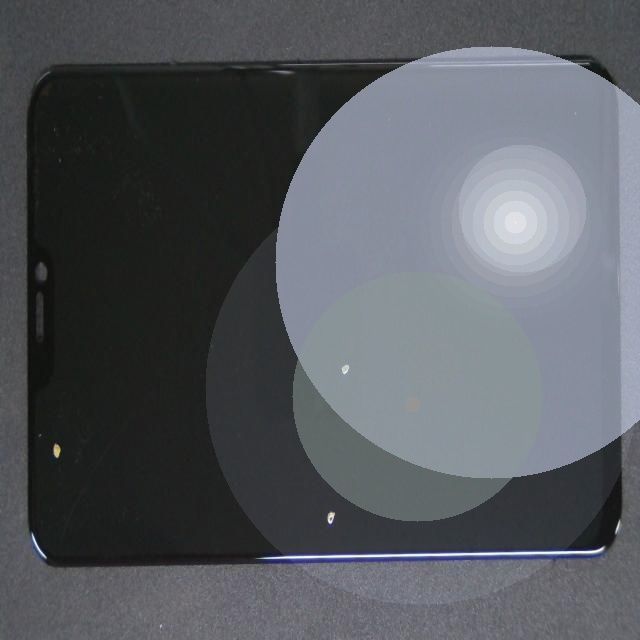stain: (175, 223, 487, 640), (199, 173, 501, 519), (35, 187, 78, 635)
